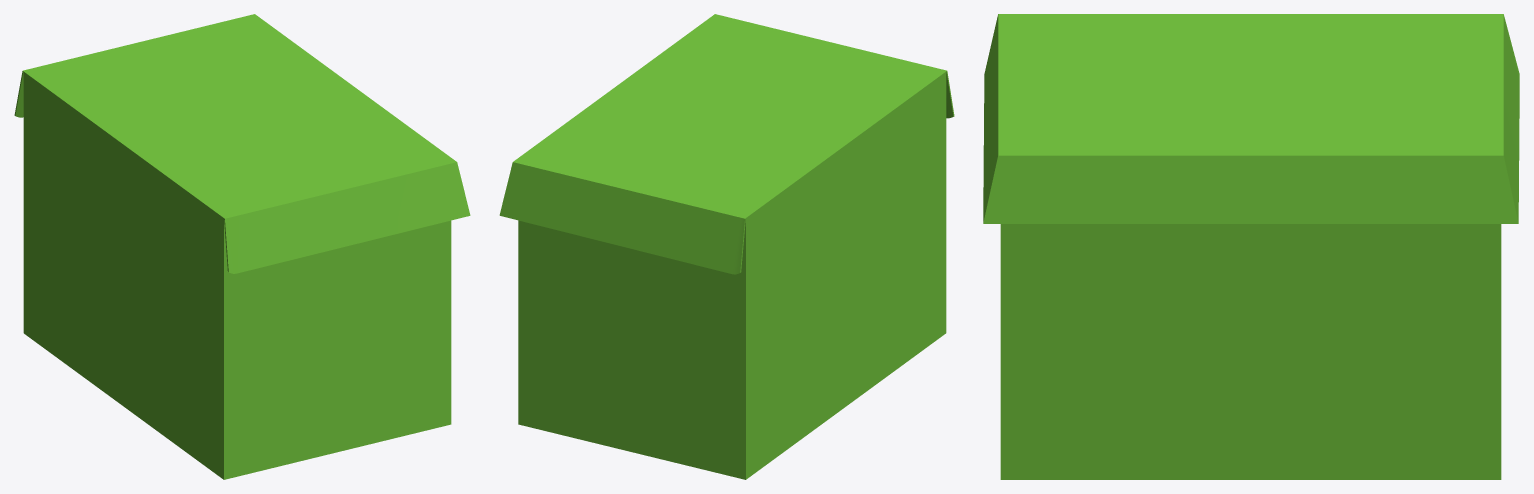
The model's file is CAJAV.fbx.
3 views of the same model, side by side, from view 1: azimuth 30°, elevation 25°; view 2: azimuth 150°, elevation 25°; view 3: azimuth 270°, elevation 25° (orthographic). The views are drawn at different scales.
Visible parts, largest first — view 1: box; view 2: box; view 3: box.
Part boxes in pixels (left/top/right/bottom): box: left=14, top=14, right=470, bottom=479; box: left=499, top=14, right=954, bottom=479; box: left=983, top=14, right=1519, bottom=479.
Bounding box in the file's own units: 342 × 355 × 527.
